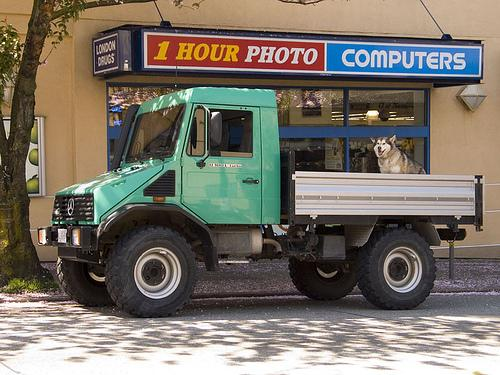truck: (37, 85, 484, 319)
